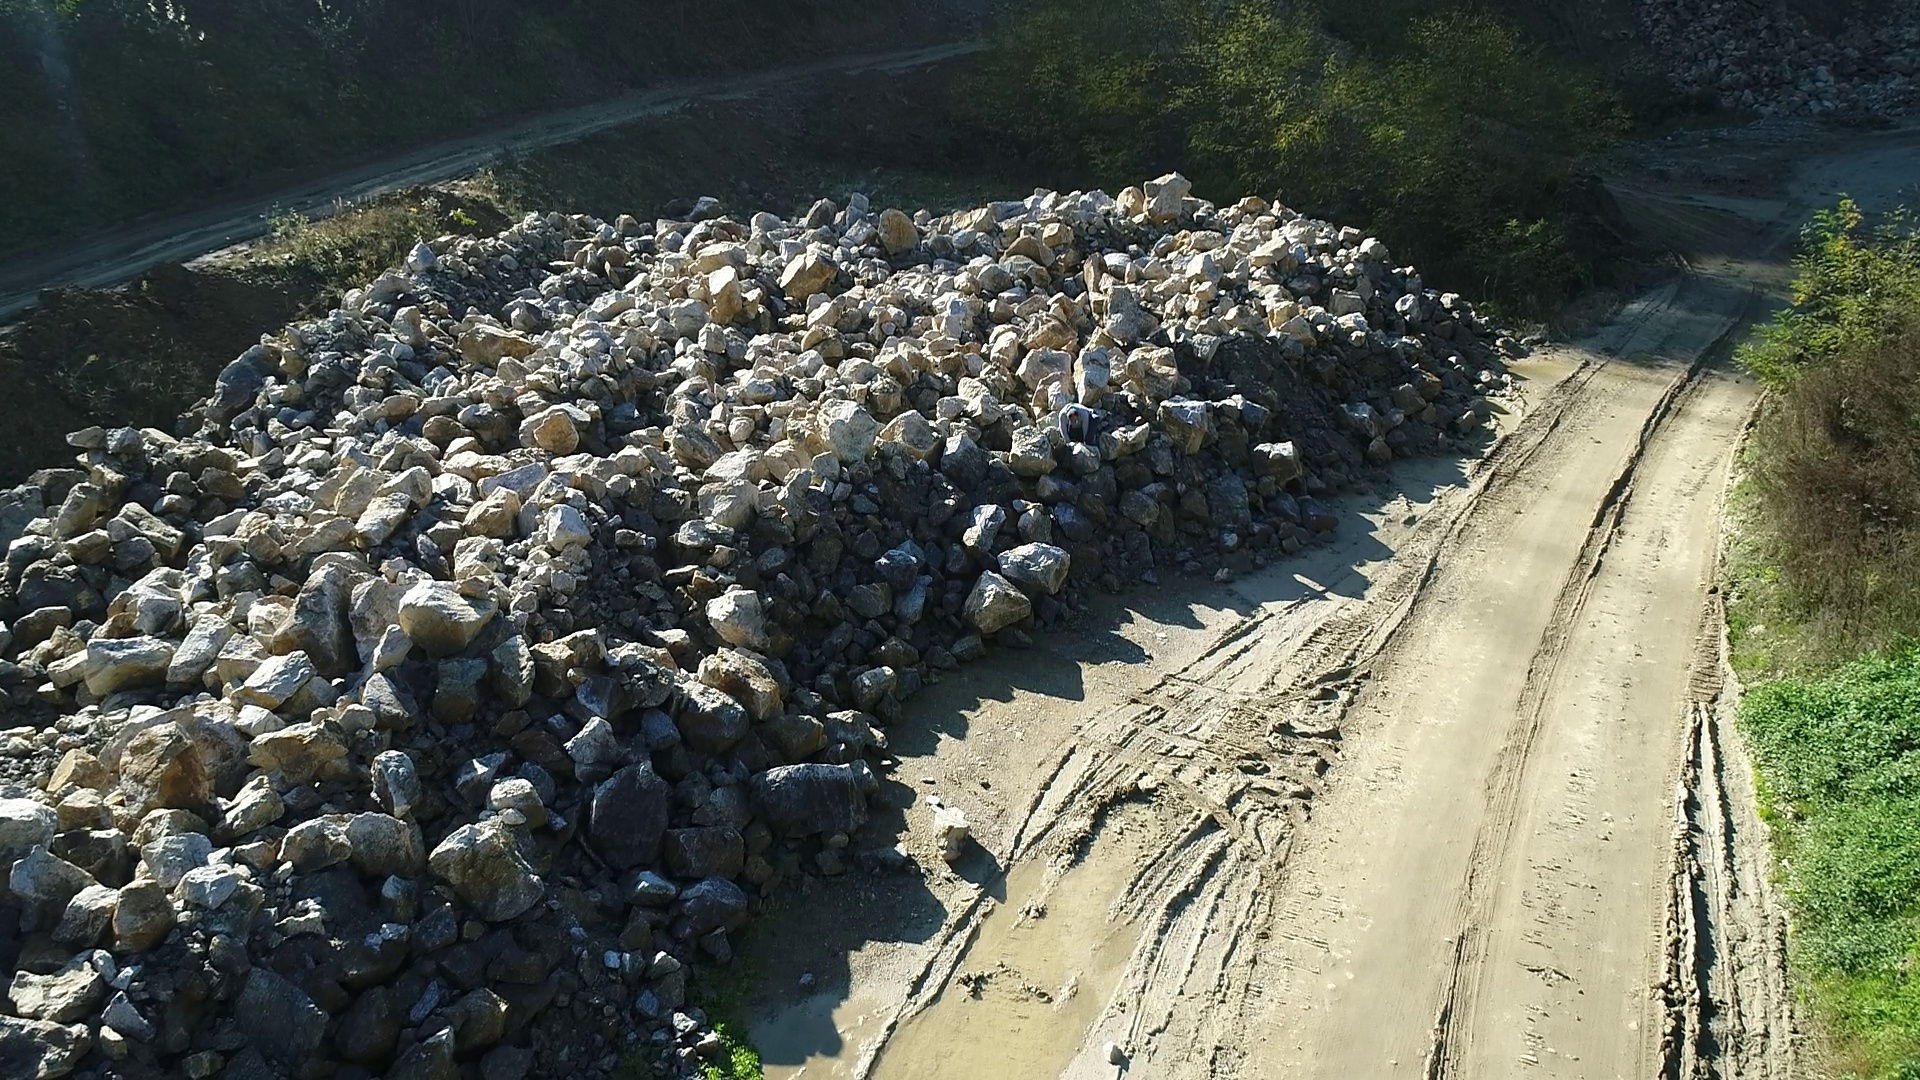person: (1058, 401, 1094, 443)
